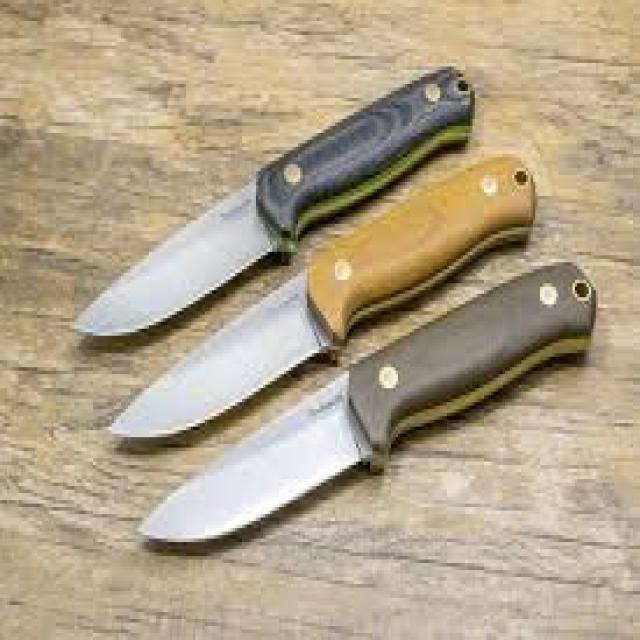knives: (71, 64, 417, 369)
